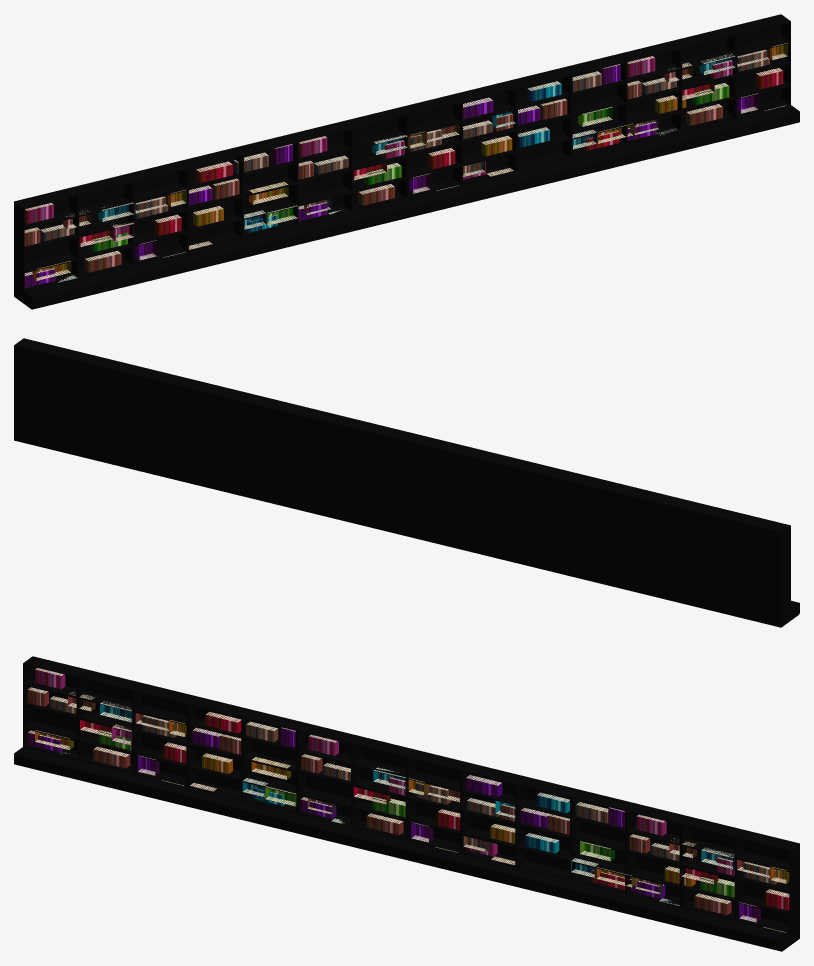
File: Bibliothèque_Pleine.FBX
The picture shows the model from 3 angles, top to bottom: view 1: azimuth 30°, elevation 25°; view 2: azimuth 150°, elevation 25°; view 3: azimuth 330°, elevation 25°; orthographic projection.
Parts seen in each view (by area): view 1: Box092, Box040, Box001 (×2), Box084, Box049, Box042, Box045, Box041, Box093, Box047, Box046, Box048 (+6 smaller); view 2: Box092, Box046, Box047, Box042, Box048, Box093, Box041, Box001, Box045, Box043, Box084, Box040 (+2 smaller); view 3: Box049, Box084, Box040, Box001 (×2), Box041, Box042, Box045, Box093, Box092, Box047, Box046, Box083 (+7 smaller).
Boxes of the visible parts, box(x1,y1,x2,y2) form: Box092: box(14, 188, 87, 309); Box040: box(398, 94, 470, 215); Box001 (×2): box(453, 81, 722, 202); Box084: box(124, 161, 196, 282); Box049: box(727, 14, 799, 135); Box042: box(288, 121, 361, 242); Box045: box(507, 68, 580, 189); Box041: box(343, 108, 416, 229); Box093: box(69, 174, 142, 296); Box047: box(617, 41, 690, 162); Box046: box(672, 27, 745, 148); Box048: box(562, 54, 635, 175); Box092: box(726, 512, 799, 627); Box046: box(68, 351, 132, 467); Box047: box(123, 365, 187, 480); Box042: box(452, 445, 516, 560); Box048: box(178, 378, 242, 493); Box093: box(671, 498, 735, 614); Box041: box(397, 432, 461, 547); Box001: box(288, 405, 352, 520); Box045: box(233, 391, 297, 507); Box043: box(507, 458, 571, 573); Box084: box(617, 485, 680, 600); Box040: box(343, 418, 406, 533); Box049: box(726, 830, 799, 951); Box084: box(123, 683, 196, 804); Box040: box(397, 750, 470, 871); Box001 (×2): box(452, 763, 731, 914); Box041: box(343, 736, 415, 857); Box042: box(288, 723, 360, 844); Box045: box(507, 776, 579, 897); Box093: box(68, 669, 141, 790); Box092: box(14, 656, 86, 777); Box047: box(617, 803, 689, 924); Box046: box(671, 816, 744, 938); Box083: box(178, 696, 251, 817).
Bounding box in the file's own units: 1544 × 188 × 65.1.
